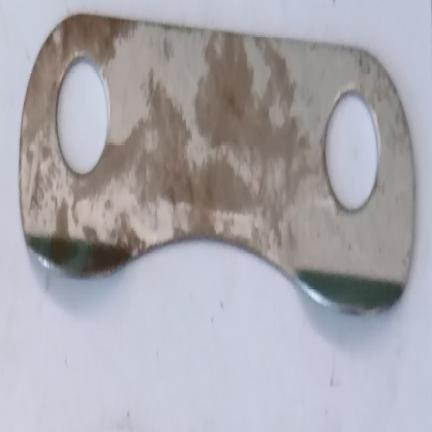karat: (47, 71, 258, 268), (22, 10, 147, 154), (196, 31, 302, 177)
